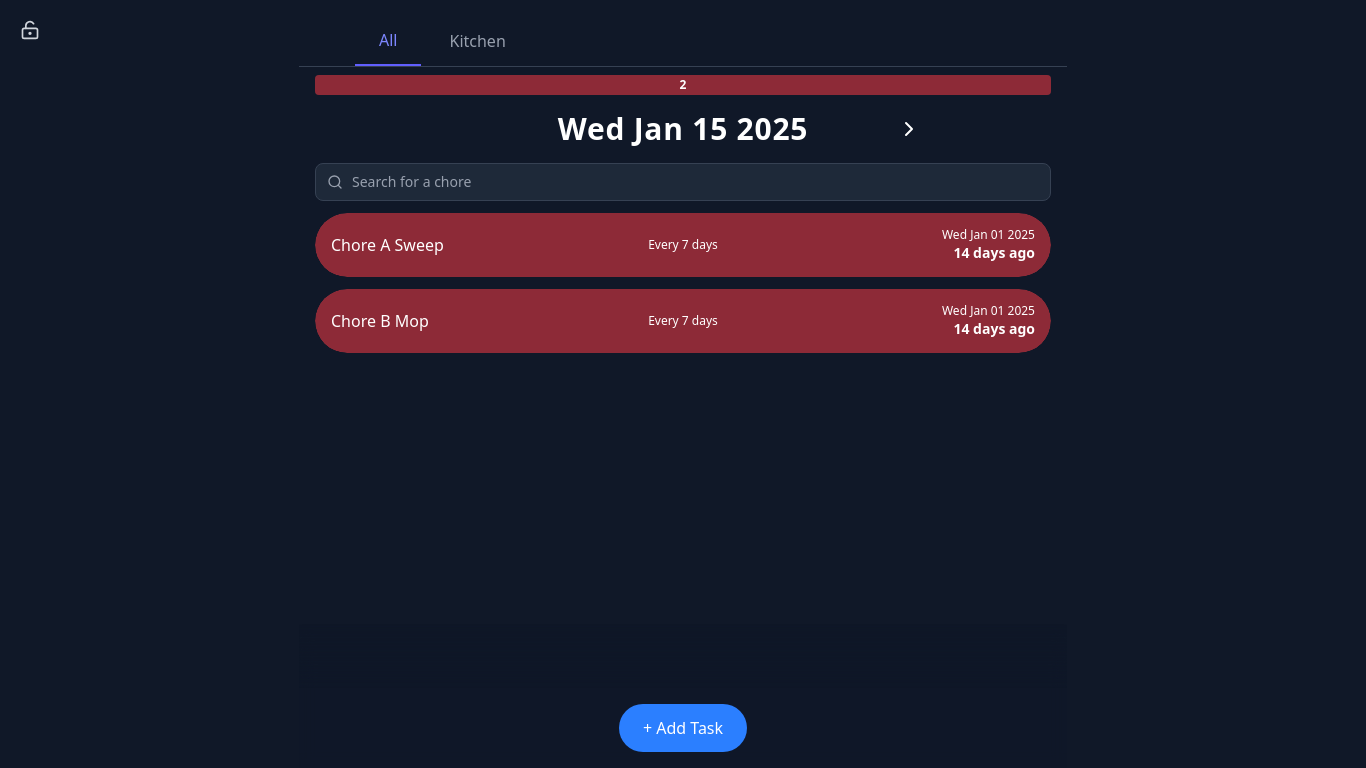
Test: chore-name search filter (F9) › clicking the clear-✕ button restores the room-filtered list
Expected: the number of elements with test id "chore-bar" is 2, [315, 213, 1051, 277]; [315, 289, 1051, 353]
Step 1. Type "mop" into the field with placeholder "Search for a chore" → (683, 182), box [315, 163, 1051, 201]
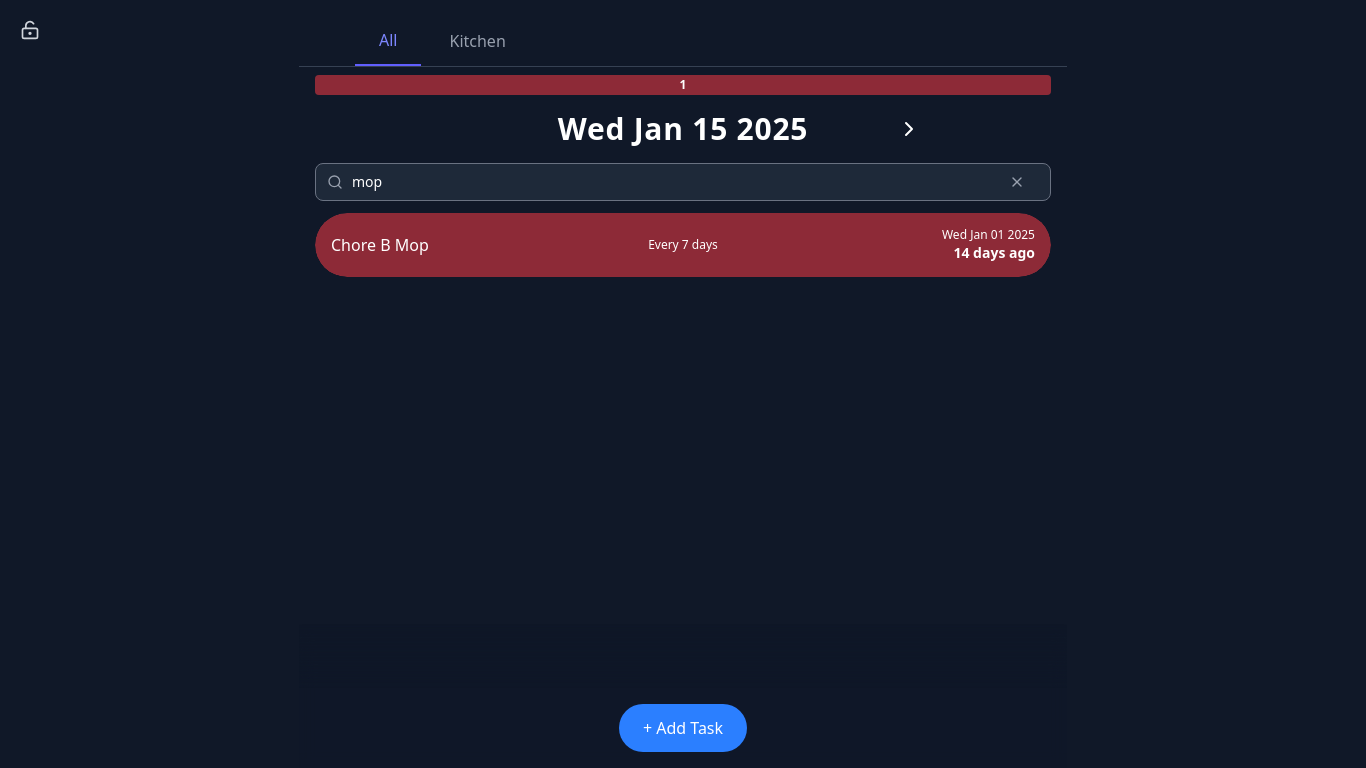
Step 2. Click the button named "Clear Search" → (1017, 182), box [995, 160, 1039, 204]
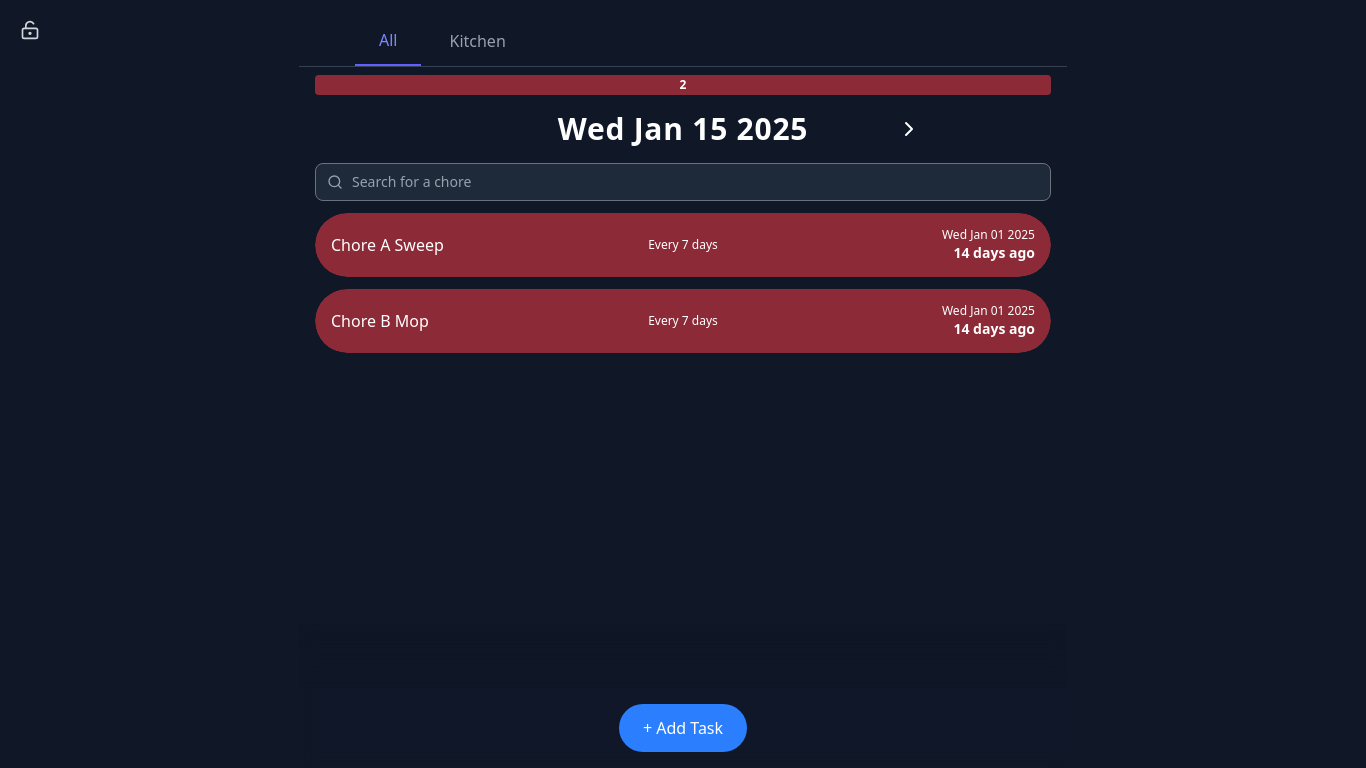
Result: the field with placeholder "Search for a chore" is empty at [315, 163, 1051, 201]
